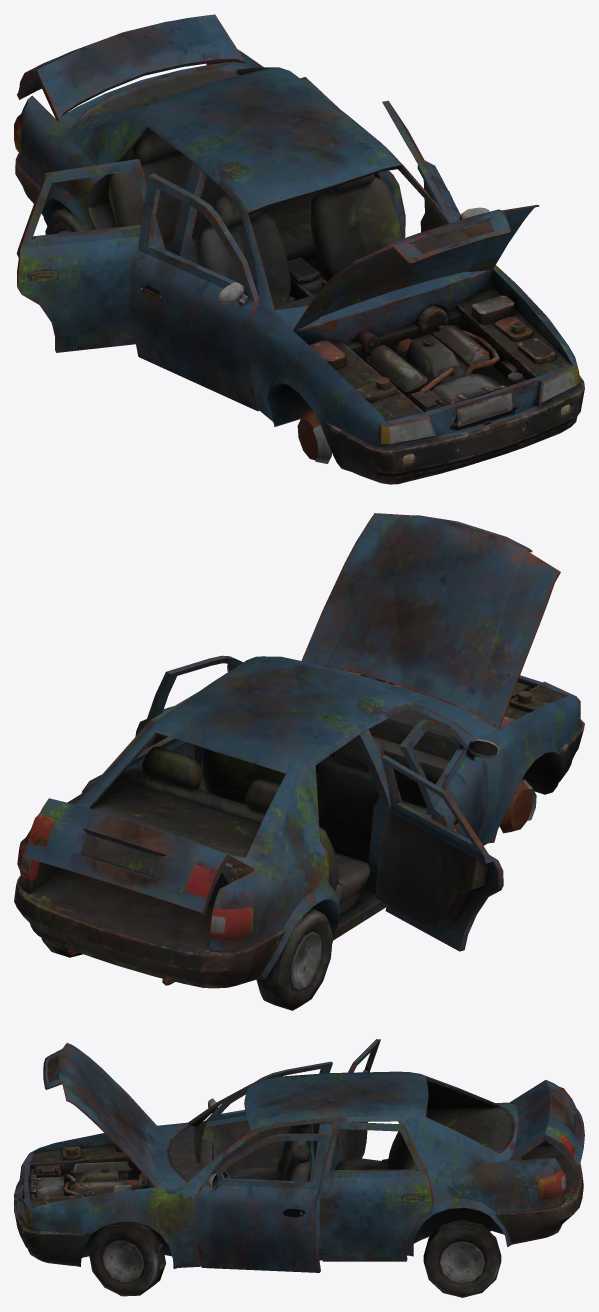
Rendered from sedan.glb.
The picture shows the model from 3 angles, top to bottom: view 1: azimuth 30°, elevation 25°; view 2: azimuth 150°, elevation 25°; view 3: azimuth 270°, elevation 25°; orthographic projection. The views are drawn at different scales.
Parts seen in each view (by area): view 1: Object_4; view 2: Object_4; view 3: Object_4.
Boxes of the visible parts, x1,y1,x2,y2 form: Object_4: [14, 14, 584, 484]; Object_4: [14, 513, 584, 1010]; Object_4: [14, 1039, 584, 1297].
Bounding box in the file's own units: 2.75 × 1.67 × 4.6.
1 material, 1 textured.
